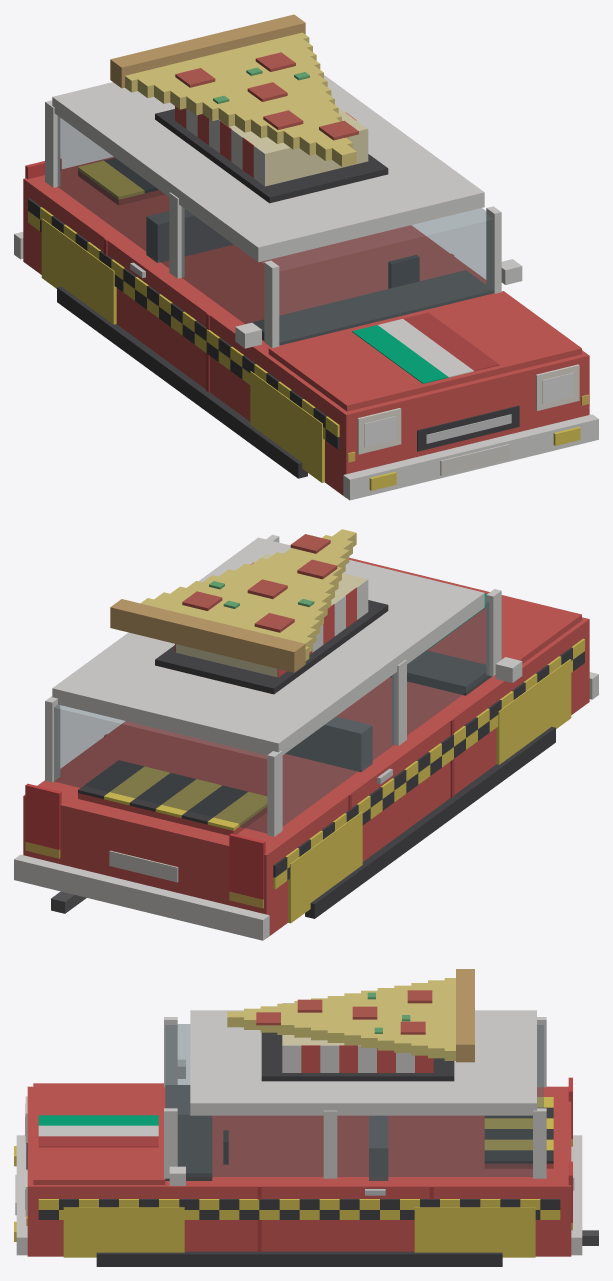
File: pizza_body.glb
The picture shows the model from 3 angles, top to bottom: view 1: azimuth 30°, elevation 25°; view 2: azimuth 150°, elevation 25°; view 3: azimuth 270°, elevation 25°; orthographic projection. The views are drawn at different scales.
Parts seen in each view (by area): view 1: picolando_kuriero; view 2: picolando_kuriero; view 3: picolando_kuriero.
Boxes of the visible parts, <box> form: picolando_kuriero: <box>14,14,598,500</box>; picolando_kuriero: <box>14,529,598,940</box>; picolando_kuriero: <box>14,969,598,1266</box>.
Bounding box in the file's own units: 1.96 × 1.66 × 4.25.
